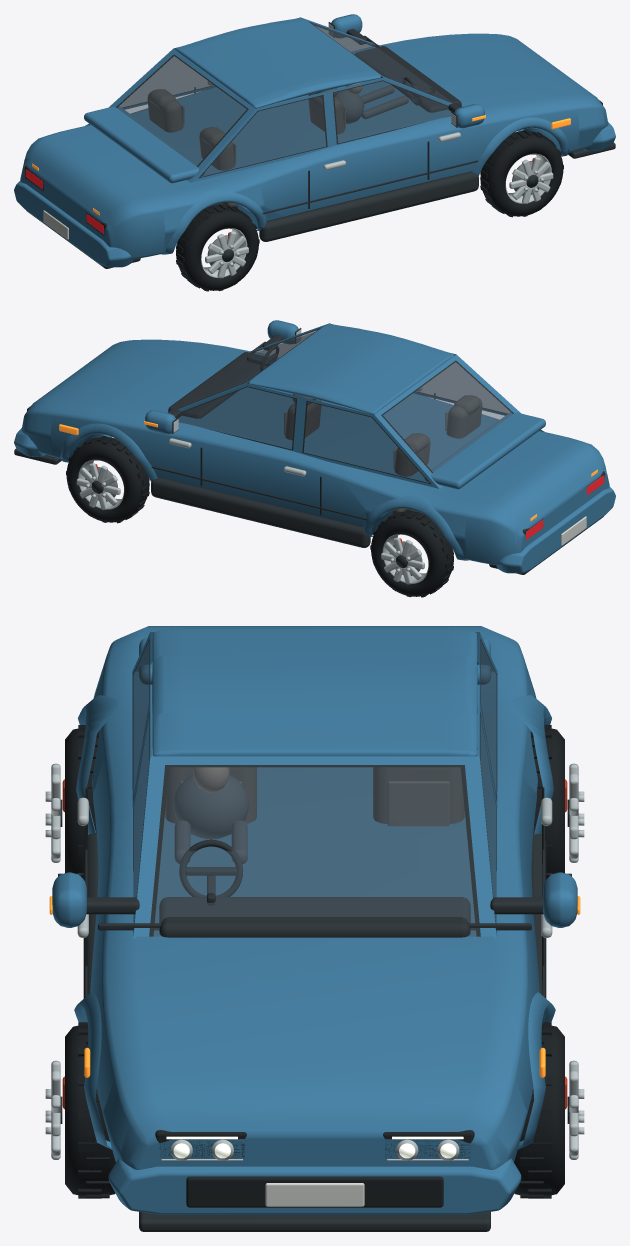
The model's file is city-sedan-v1.glb.
3 views of the same model, one above another, from view 1: azimuth 30°, elevation 25°; view 2: azimuth 150°, elevation 25°; view 3: azimuth 270°, elevation 25° (orthographic). The views are drawn at different scales.
Parts seen in each view (by area): view 1: Sculpted one-piece painted body, Crowned painted roof, Rear windscreen, Rear side glass, Sculpted side sill, Front side glass, Integrated rear deck lip, Rounded tire rear_left, Rounded tire front_left, Sculpted rear bumper skin, Dashboard upper pad, Front windscreen (+16 smaller); view 2: Sculpted one-piece painted body, Crowned painted roof, Rear windscreen, Rear side glass.001, Sculpted side sill.001, Front side glass.001, Integrated rear deck lip, Rounded tire rear_right, Rounded tire front_right, Sculpted rear bumper skin, Dashboard upper pad, Front windscreen (+14 smaller); view 3: Sculpted one-piece painted body, Front windscreen, Crowned painted roof, Dashboard upper pad, Sculpted front bumper skin, Front splitter, Full-width front lower intake, Rounded tire front_left, Rounded tire front_right, Driver jacket torso, Upholstered back insert.001, Front windscreen painted frame.002 (+27 smaller).
Part boxes in pixels (x1,y1,x2,y2): Sculpted one-piece painted body: (20, 33, 608, 259); Crowned painted roof: (175, 18, 380, 108); Rear windscreen: (117, 56, 246, 165); Rear side glass: (201, 96, 325, 176); Sculpted side sill: (259, 171, 478, 241); Front side glass: (334, 81, 451, 143); Integrated rear deck lip: (84, 106, 205, 183); Rounded tire rear_left: (176, 205, 258, 290); Rounded tire front_left: (480, 131, 563, 216); Sculpted rear bumper skin: (14, 180, 133, 267); Dashboard upper pad: (354, 46, 461, 112); Front windscreen: (311, 23, 462, 106); Sculpted one-piece painted body: (21, 339, 609, 565); Crowned painted roof: (249, 324, 454, 414); Rear windscreen: (383, 362, 512, 471); Rear side glass.001: (304, 402, 428, 482); Sculpted side sill.001: (151, 477, 370, 547); Front side glass.001: (178, 387, 295, 449); Integrated rear deck lip: (424, 412, 545, 489); Rounded tire rear_right: (371, 511, 453, 596); Rounded tire front_right: (66, 437, 149, 522); Sculpted rear bumper skin: (496, 486, 615, 573); Dashboard upper pad: (168, 352, 267, 418); Front windscreen: (167, 329, 318, 412); Sculpted one-piece painted body: (90, 626, 539, 1169); Front windscreen: (153, 767, 476, 936); Crowned painted roof: (152, 628, 477, 756); Dashboard upper pad: (159, 897, 470, 937); Sculpted front bumper skin: (108, 1158, 521, 1214); Front splitter: (139, 1212, 490, 1231); Full-width front lower intake: (186, 1176, 443, 1207); Rounded tire front_left: (65, 1025, 115, 1195); Rounded tire front_right: (514, 1025, 564, 1195); Driver jacket torso: (173, 775, 249, 839); Upholstered back insert.001: (387, 781, 449, 826); Front windscreen painted frame.002: (151, 756, 478, 764).
Bounding box in the file's own units: 4.83 × 1.46 × 2.17.
